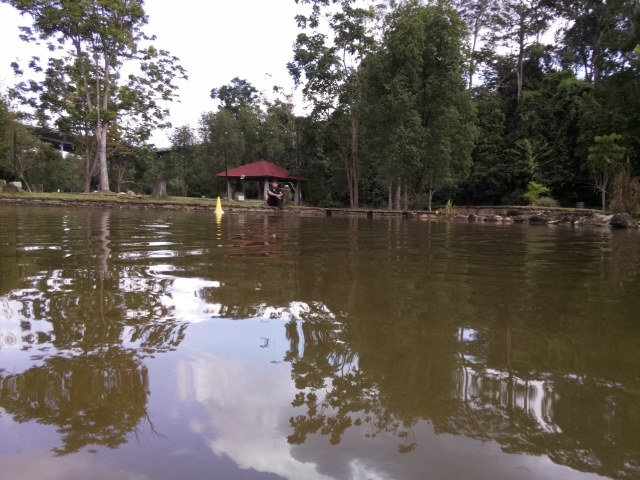checkpoint: (212, 196, 226, 215)
